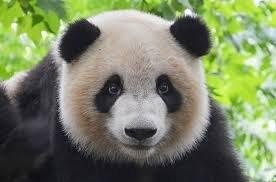bear: (1, 10, 250, 181)
